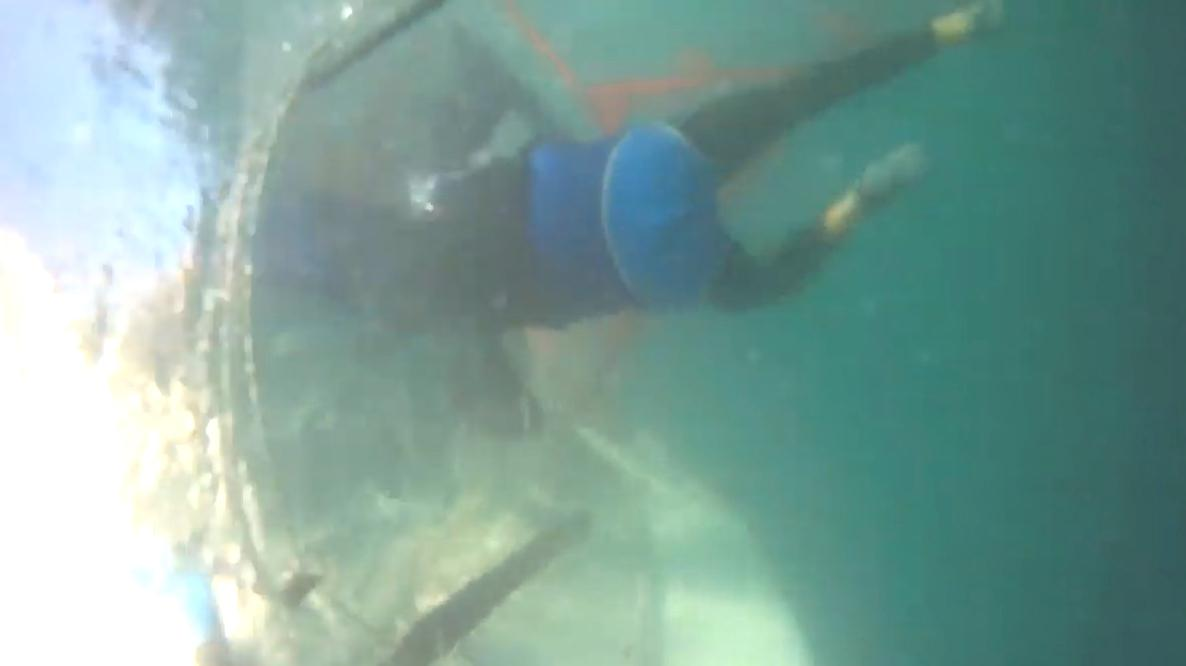boat: (205, 0, 1004, 666)
person: (481, 5, 987, 328)
underwater: (0, 0, 1186, 666)
